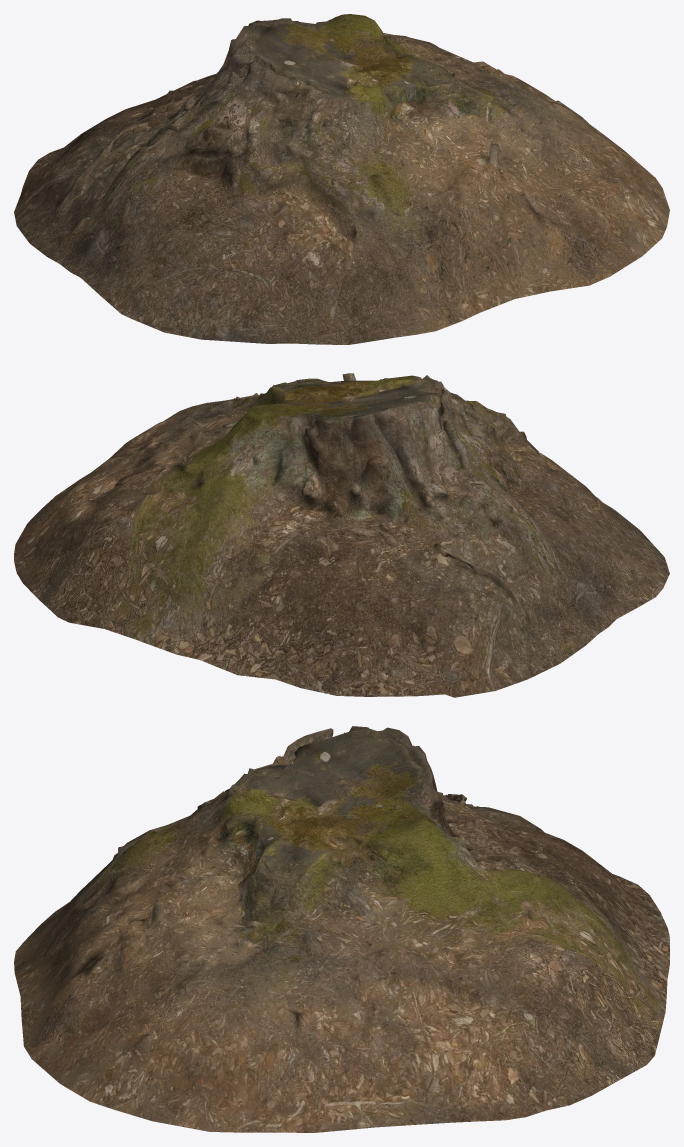
The model's file is tree_stump_02_lod.glb.
The picture shows the model from 3 angles, top to bottom: view 1: azimuth 30°, elevation 25°; view 2: azimuth 150°, elevation 25°; view 3: azimuth 270°, elevation 25°; orthographic projection. The views are drawn at different scales.
Visible parts, largest first — view 1: tree_stump_02; view 2: tree_stump_02; view 3: tree_stump_02.
Part boxes in pixels (x1,y1,x2,y2): tree_stump_02: (14, 14, 669, 344); tree_stump_02: (14, 373, 669, 697); tree_stump_02: (14, 726, 669, 1132).
Size of the model in its own units: 1.52 by 0.5196 by 1.39.
Materials: 1 (1 with a texture image).
